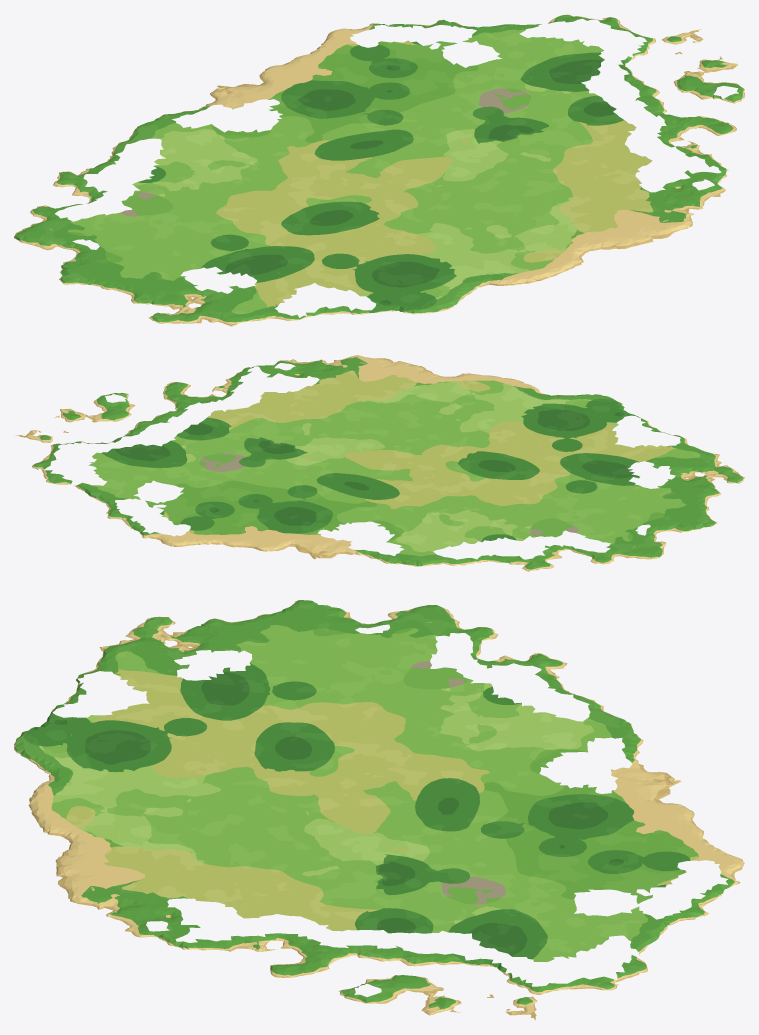
The model's file is Isl-bot3-Ground.fbx.
3 renders of one model, top to bottom at view 1: azimuth 30°, elevation 25°; view 2: azimuth 150°, elevation 25°; view 3: azimuth 270°, elevation 25°, orthographic. The views are drawn at different scales.
Visible parts, largest first — view 1: Isl-bot3-Ground-c11, Isl-bot3-Ground-c22, Isl-bot3-Ground-c21, Isl-bot3-Ground-c12, Isl-bot3-Ground-c01, Isl-bot3-Ground-c02, Isl-bot3-Ground-c32; view 2: Isl-bot3-Ground-c11, Isl-bot3-Ground-c22, Isl-bot3-Ground-c12, Isl-bot3-Ground-c21, Isl-bot3-Ground-c01, Isl-bot3-Ground-c02, Isl-bot3-Ground-c32; view 3: Isl-bot3-Ground-c11, Isl-bot3-Ground-c22, Isl-bot3-Ground-c21, Isl-bot3-Ground-c12, Isl-bot3-Ground-c01, Isl-bot3-Ground-c32, Isl-bot3-Ground-c02.
Part boxes in pixels (left/top/right/bottom): Isl-bot3-Ground-c11: left=123, top=167, right=554, bottom=323; Isl-bot3-Ground-c22: left=271, top=14, right=687, bottom=167; Isl-bot3-Ground-c21: left=410, top=107, right=736, bottom=275; Isl-bot3-Ground-c12: left=53, top=66, right=408, bottom=236; Isl-bot3-Ground-c01: left=59, top=237, right=236, bottom=326; Isl-bot3-Ground-c02: left=14, top=204, right=122, bottom=251; Isl-bot3-Ground-c32: left=584, top=17, right=742, bottom=99; Isl-bot3-Ground-c11: left=378, top=376, right=712, bottom=521; Isl-bot3-Ground-c22: left=44, top=412, right=377, bottom=550; Isl-bot3-Ground-c12: left=260, top=463, right=616, bottom=571; Isl-bot3-Ground-c21: left=163, top=355, right=496, bottom=463; Isl-bot3-Ground-c01: left=617, top=453, right=744, bottom=532; Isl-bot3-Ground-c02: left=577, top=522, right=666, bottom=564; Isl-bot3-Ground-c32: left=16, top=395, right=135, bottom=475; Isl-bot3-Ground-c11: left=14, top=647, right=370, bottom=813; Isl-bot3-Ground-c22: left=366, top=810, right=744, bottom=977; Isl-bot3-Ground-c21: left=32, top=810, right=369, bottom=977; Isl-bot3-Ground-c12: left=366, top=647, right=693, bottom=812; Isl-bot3-Ground-c01: left=99, top=600, right=370, bottom=650; Isl-bot3-Ground-c32: left=366, top=975, right=631, bottom=1020; Isl-bot3-Ground-c02: left=367, top=605, right=498, bottom=650.
Bounding box in the file's own units: 144 × 0.49 × 106.
